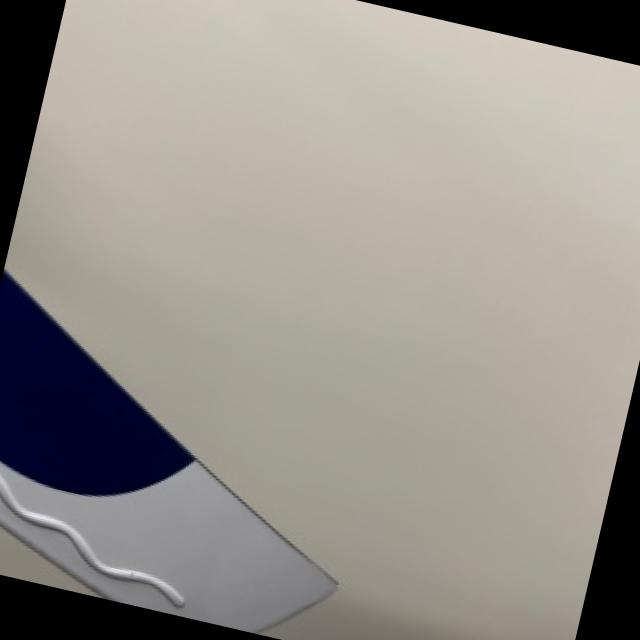healthy: (0, 271, 333, 631)
